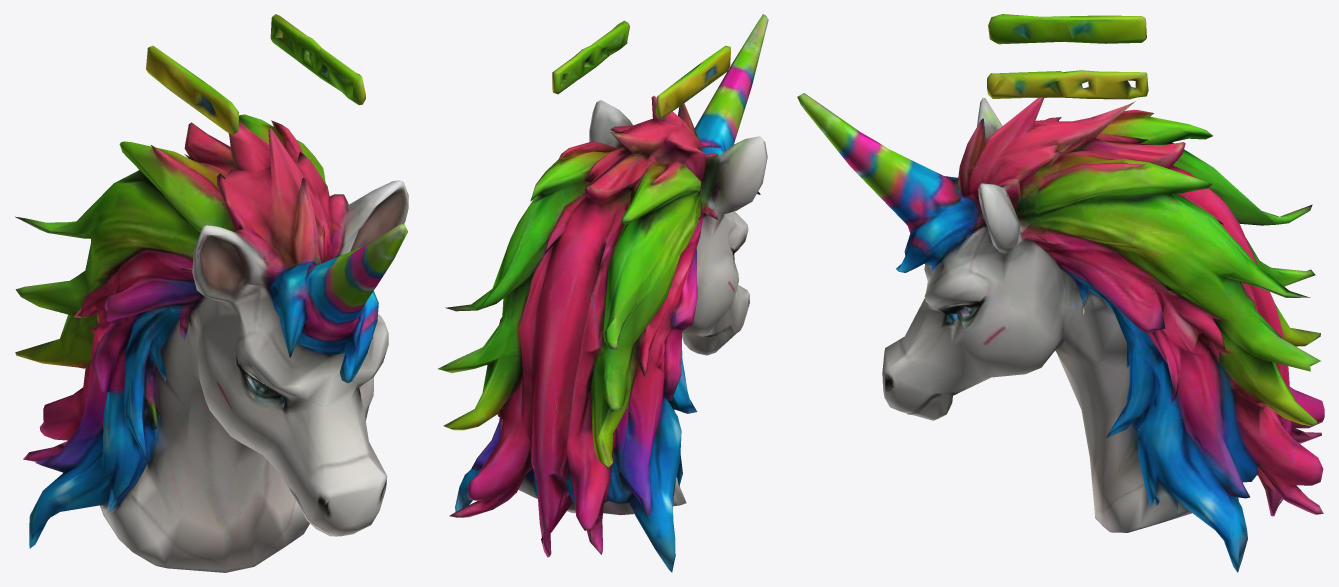
Rendered from head.glb.
3 views of the same model, side by side, from view 1: azimuth 30°, elevation 25°; view 2: azimuth 150°, elevation 25°; view 3: azimuth 270°, elevation 25° (orthographic). The views are drawn at different scales.
Bounding box in the file's own units: 1.05 × 1.98 × 2.
1 material, 1 textured.
